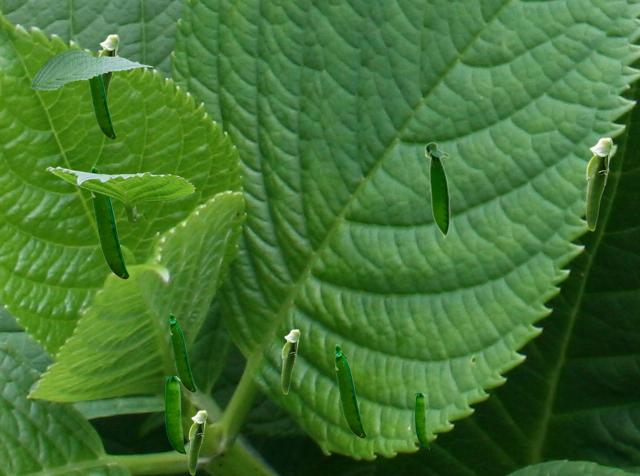pea: (90, 166, 128, 278), (334, 344, 365, 437), (585, 137, 612, 230), (424, 141, 449, 238), (169, 313, 195, 391), (88, 75, 115, 138), (165, 376, 185, 454), (98, 34, 118, 98), (188, 410, 206, 474), (281, 329, 299, 393), (415, 393, 428, 448)
